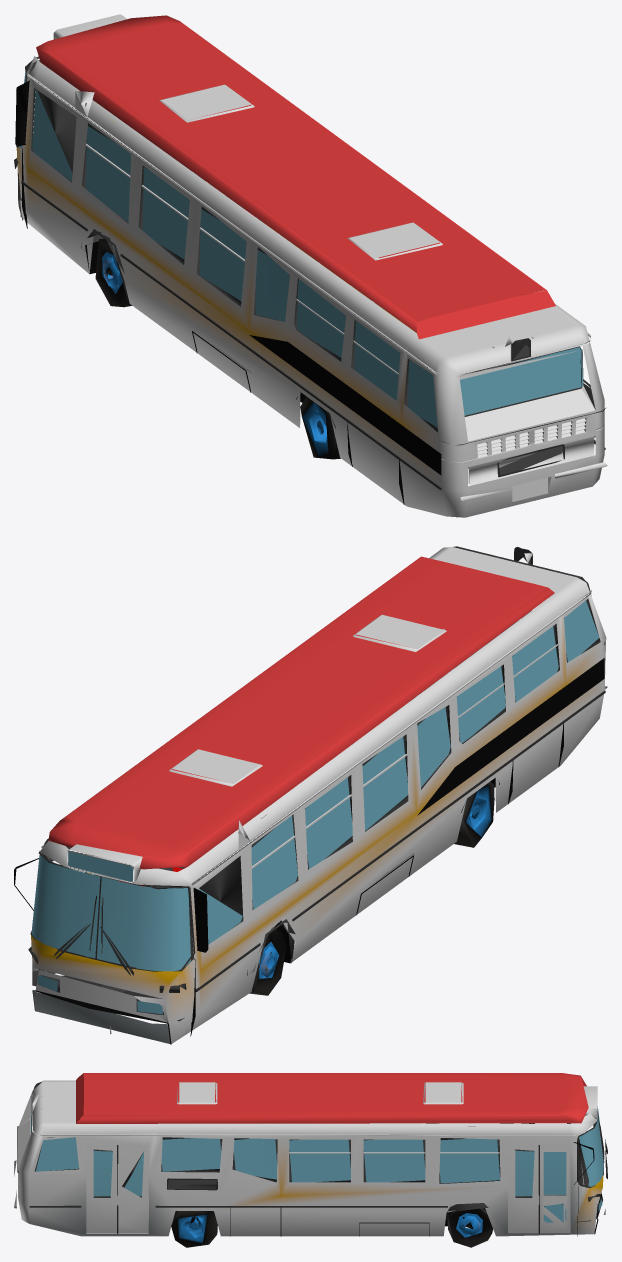
The model's file is town_bus.gltf.
The picture shows the model from 3 angles, top to bottom: view 1: azimuth 30°, elevation 25°; view 2: azimuth 150°, elevation 25°; view 3: azimuth 270°, elevation 25°; orthographic projection. The views are drawn at different scales.
Visible parts, largest first — view 1: Body; view 2: Body; view 3: Body.
Boxes of the visible parts, x1,y1,x2,y2 form: Body: [14, 14, 607, 517]; Body: [14, 546, 607, 1044]; Body: [14, 1073, 607, 1247].
Bounding box in the file's own units: 2.79 × 2.93 × 11.99.
